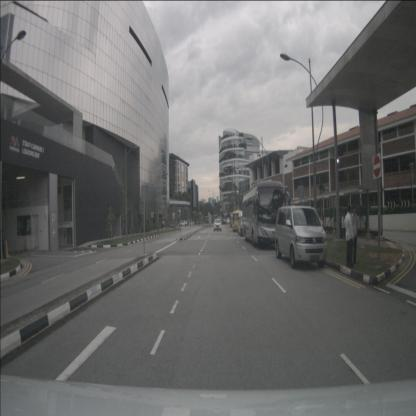barrier: (4, 240, 10, 258), (24, 238, 29, 251)
